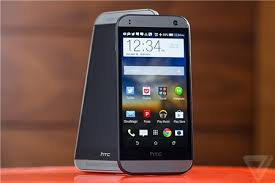htc: (111, 12, 195, 174)
